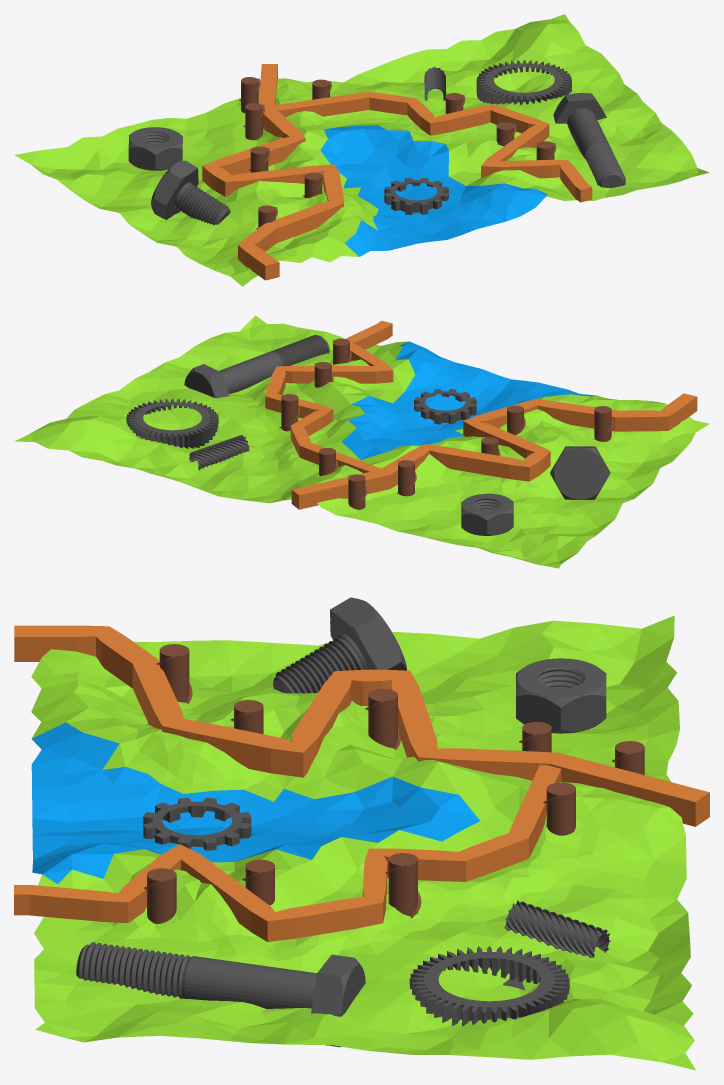
The model's file is map1sonn.fbx.
3 views of the same model, one above another, from view 1: azimuth 30°, elevation 25°; view 2: azimuth 150°, elevation 25°; view 3: azimuth 270°, elevation 25° (orthographic). The views are drawn at different scales.
Parts seen in each view (by area): view 1: Nut, Nut.003, Nut.001, Nut.004, Nut.005; view 2: Nut, Nut.006, Nut.001, Nut.003, Nut.009, Nut.005, Nut.002, Nut.010, Nut.008; view 3: Nut, Nut.009, Nut.004, Nut.010, Nut.002, Nut.006, Nut.008, Nut.005, Nut.001, Nut.003.
Boxes of the visible parts, bbox=[...] form: Nut: bbox=[14, 14, 709, 286]; Nut.003: bbox=[243, 103, 264, 140]; Nut.001: bbox=[239, 77, 260, 112]; Nut.004: bbox=[249, 146, 270, 172]; Nut.005: bbox=[303, 172, 324, 197]; Nut: bbox=[14, 315, 709, 568]; Nut.006: bbox=[593, 406, 613, 441]; Nut.001: bbox=[348, 474, 367, 509]; Nut.003: bbox=[396, 460, 416, 496]; Nut.009: bbox=[279, 394, 300, 431]; Nut.005: bbox=[507, 405, 525, 435]; Nut.002: bbox=[319, 447, 337, 475]; Nut.010: bbox=[333, 338, 351, 364]; Nut.008: bbox=[314, 362, 333, 387]; Nut: bbox=[14, 597, 709, 1070]; Nut.009: bbox=[385, 853, 421, 918]; Nut.004: bbox=[365, 688, 400, 749]; Nut.010: bbox=[144, 868, 176, 923]; Nut.002: bbox=[543, 782, 575, 835]; Nut.006: bbox=[156, 644, 192, 703]; Nut.008: bbox=[242, 859, 274, 905]; Nut.005: bbox=[231, 700, 263, 733]; Nut.001: bbox=[612, 741, 644, 774]; Nut.003: bbox=[519, 722, 551, 752].
Size of the model in its own units: 6568 by 737 by 4242.
